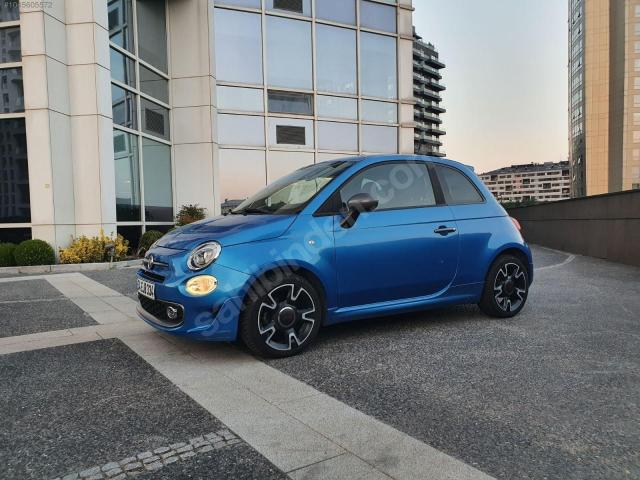plaka: (137, 278, 154, 300)
